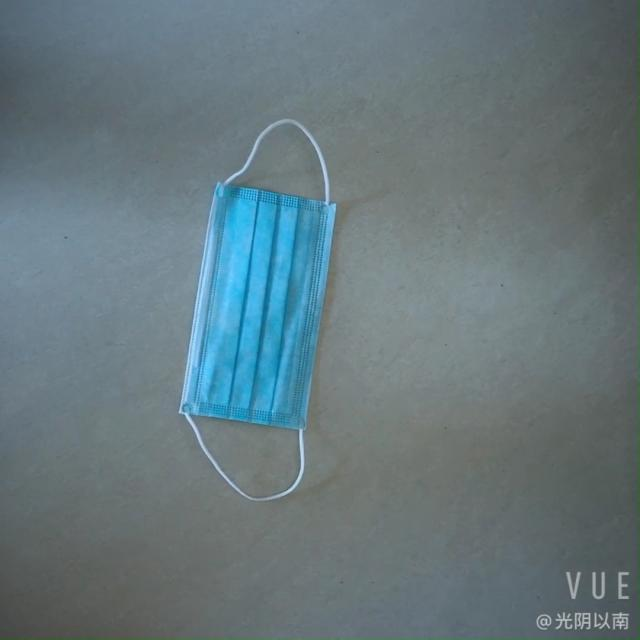face mask: (180, 162, 358, 452)
